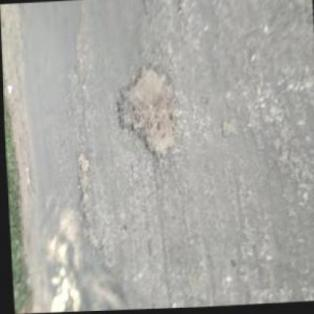Hueco: (111, 62, 181, 166), (72, 148, 90, 224)
